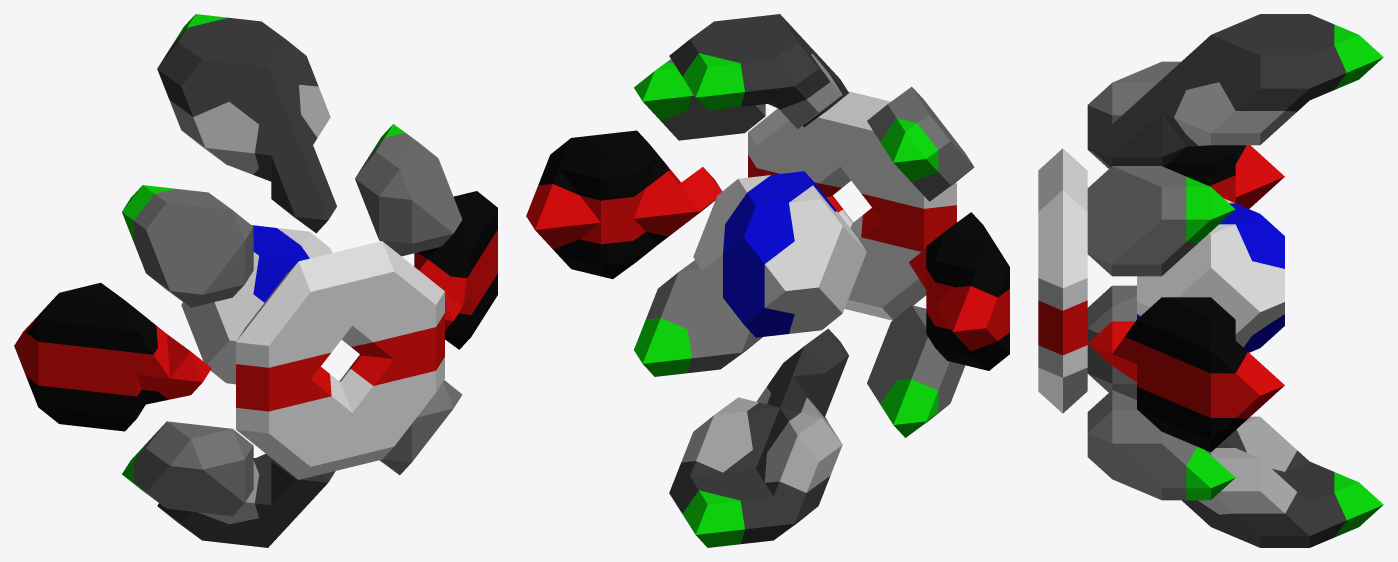
Rendered from ship_fancy_1.fbx.
The picture shows the model from 3 angles, left to right: view 1: azimuth 30°, elevation 25°; view 2: azimuth 150°, elevation 25°; view 3: azimuth 270°, elevation 25°; orthographic projection. The views are drawn at different scales.
Parts seen in each view (by area): view 1: ship_fancy_1; view 2: ship_fancy_1; view 3: ship_fancy_1.
Boxes of the visible parts, x1=… form: ship_fancy_1: x1=14, y1=14, x2=497, y2=547; ship_fancy_1: x1=526, y1=14, x2=1009, y2=547; ship_fancy_1: x1=1038, y1=14, x2=1383, y2=547.
Bounding box in the file's own units: 1100 × 1100 × 700.
